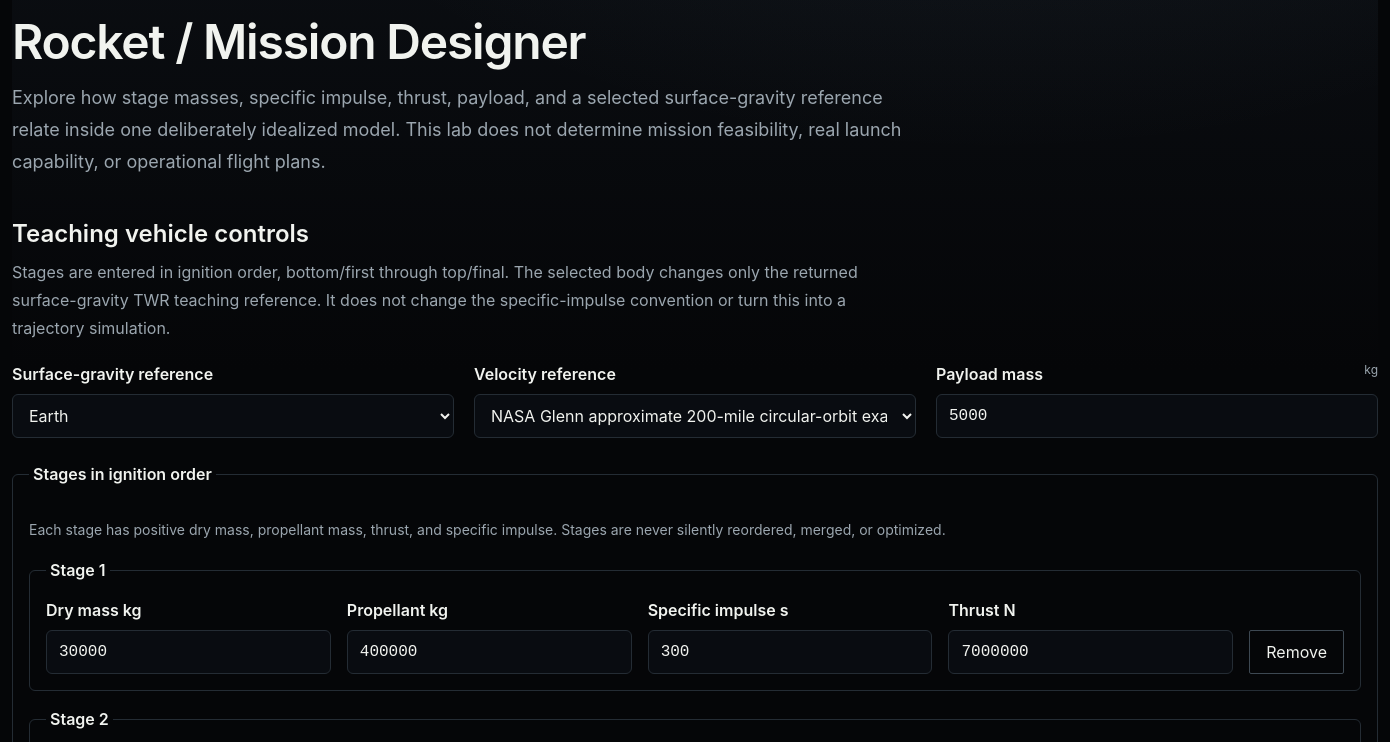
Test: RocketMissionDesignerView › rejects out-of-domain drafts locally without an API request
Replace the text in the number field named "Stage 1 specific impulse s" with "501": (790, 652) [648,630,932,674]
(page scrolled)
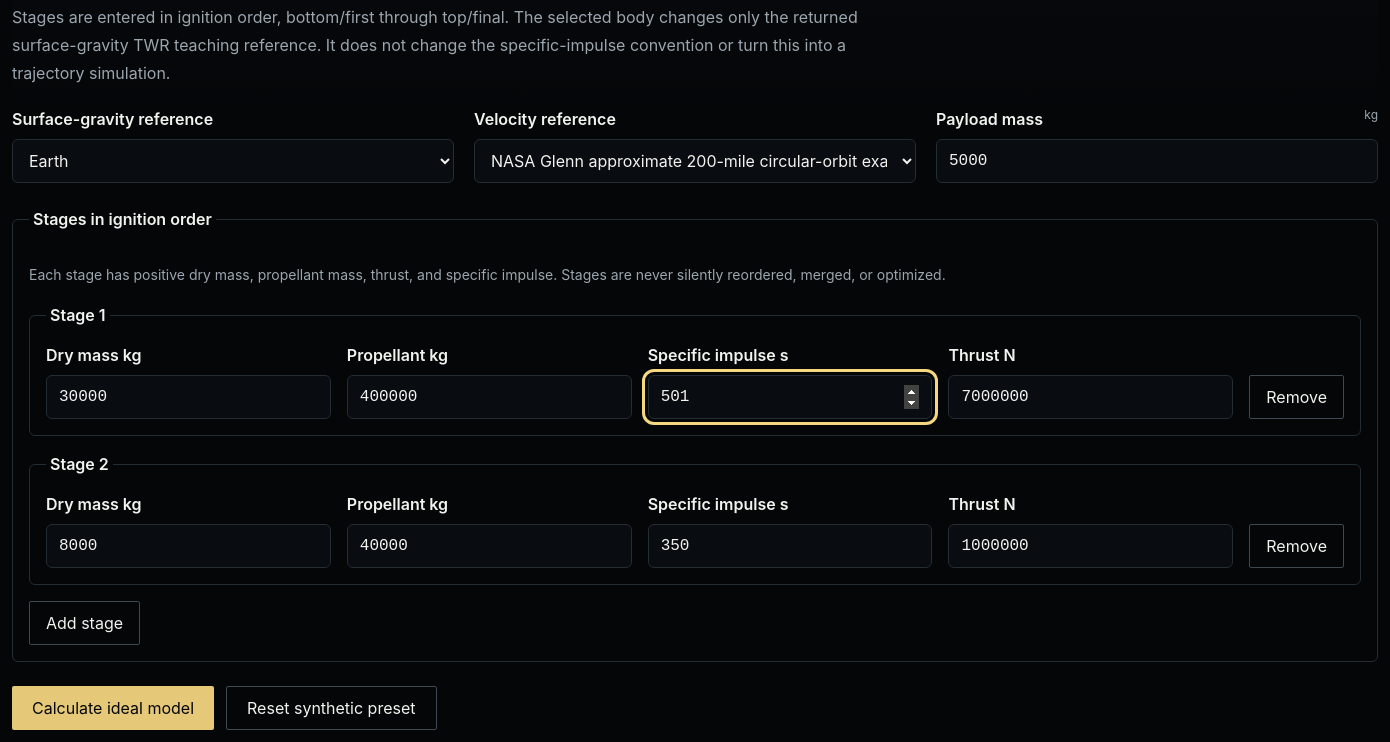
Submit the form named "Calculate ideal model"
(page scrolled)
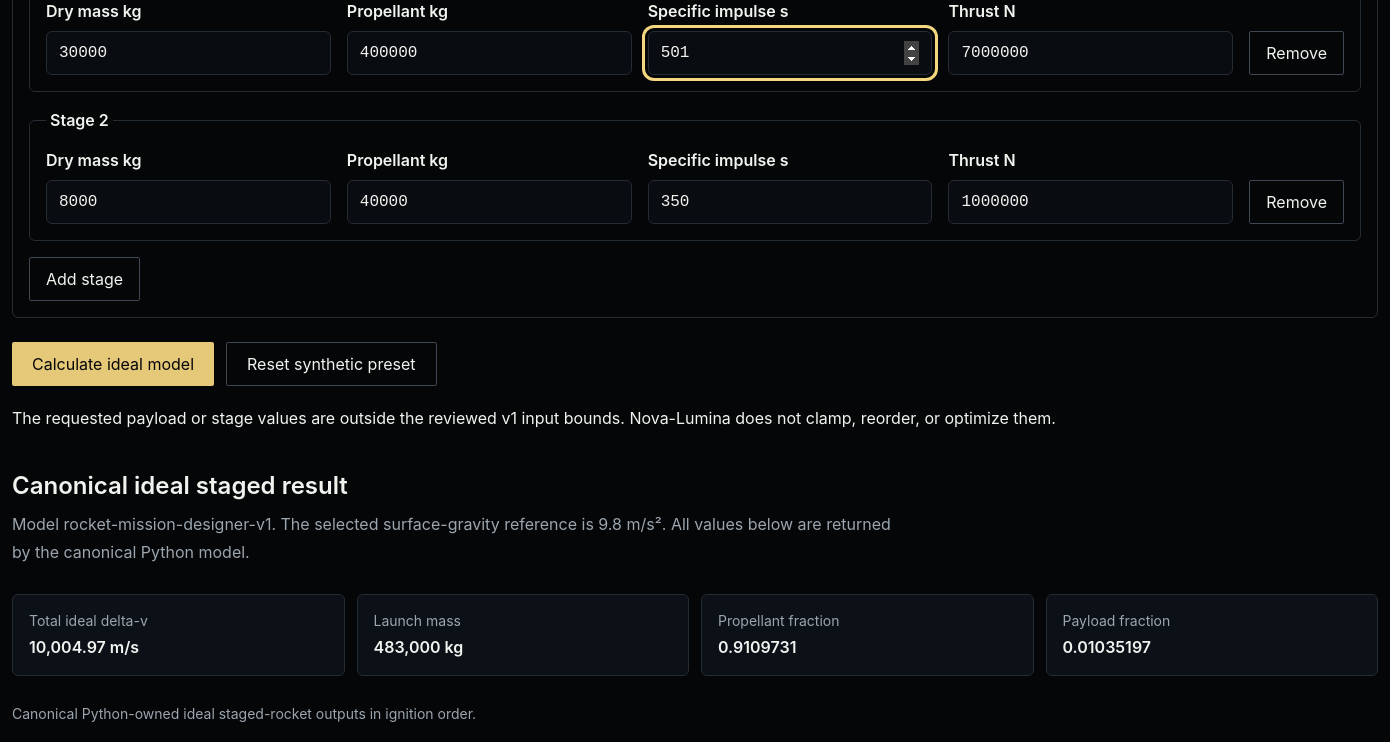
Now the text "outside the reviewed v1 input bounds" is shown, box [12,408,1056,428]
